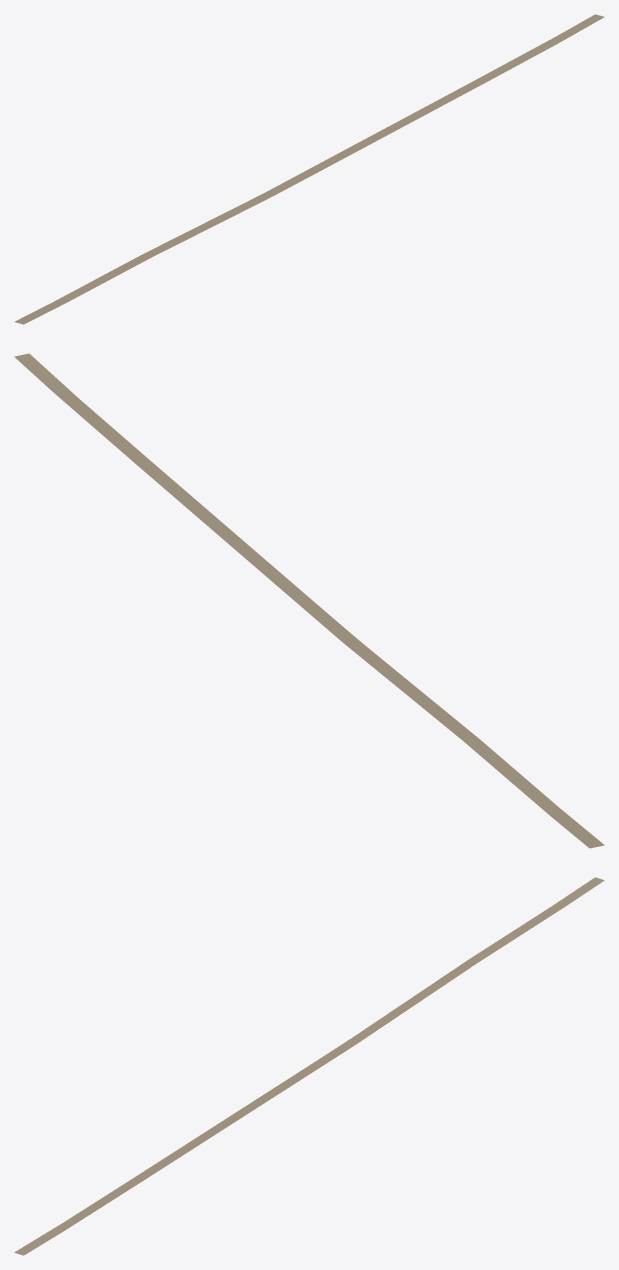
File: farm_13_14_track.glb
The picture shows the model from 3 angles, top to bottom: view 1: azimuth 90°, elevation 25°; view 2: azimuth 150°, elevation 25°; view 3: azimuth 270°, elevation 25°; orthographic projection. The views are drawn at different scales.
Parts seen in each view (by area): view 1: geometry_0; view 2: geometry_0; view 3: geometry_0.
Boxes of the visible parts, bbox=[...] form: geometry_0: bbox=[14, 14, 604, 324]; geometry_0: bbox=[14, 353, 604, 848]; geometry_0: bbox=[14, 877, 604, 1255].
Bounding box in the file's own units: 224 × 10.31 × 162.
